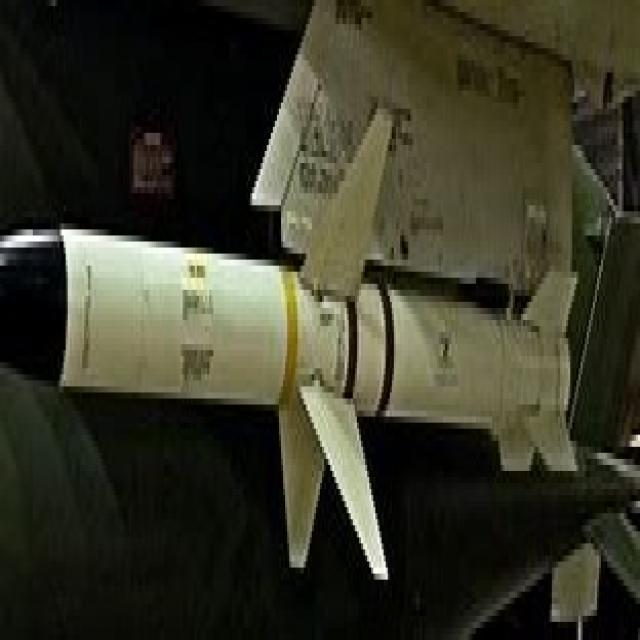missile: (0, 108, 569, 583)
